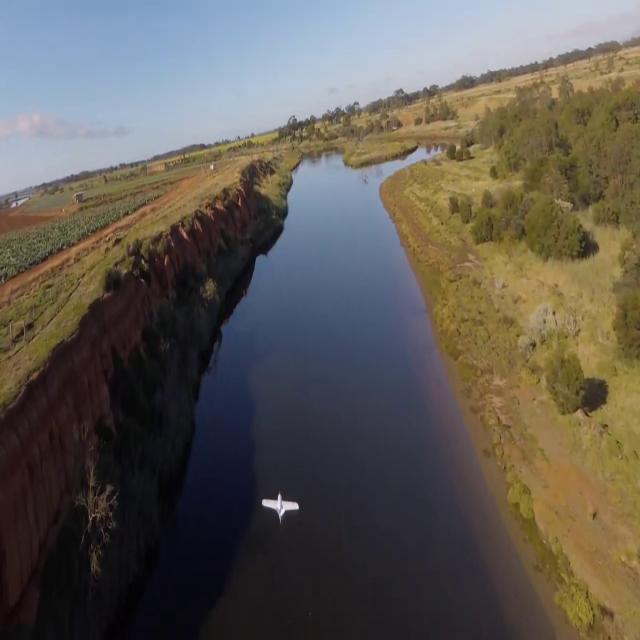iha: (262, 490, 301, 526)
